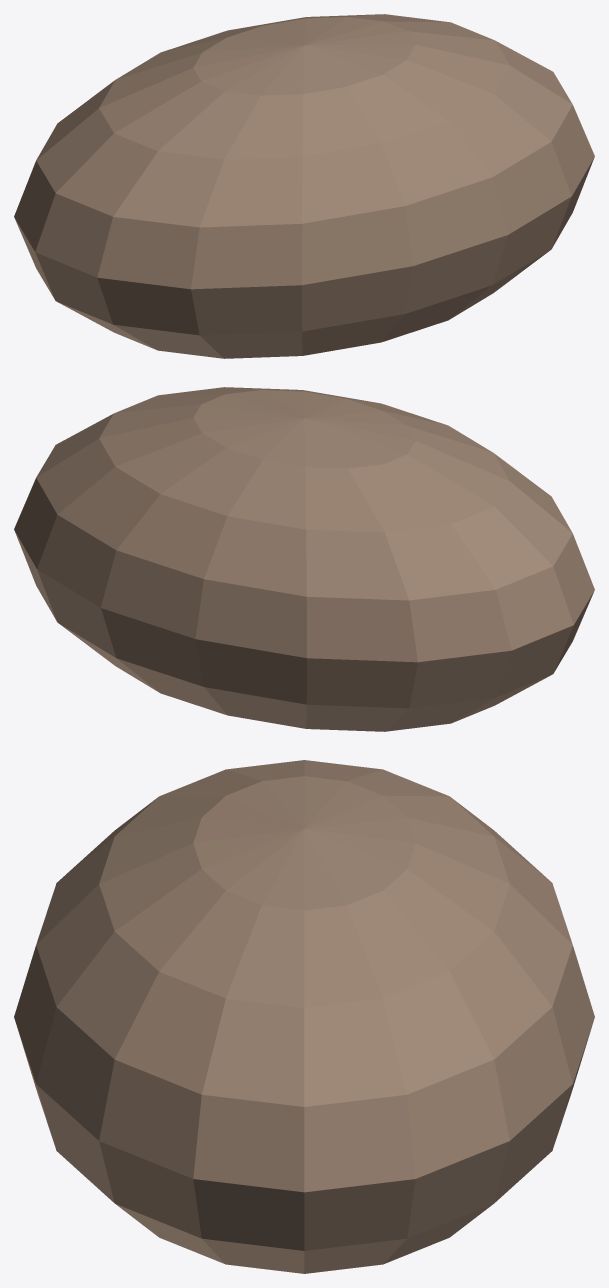
File: seedstage_oak.glb
3 renders of one model, top to bottom at view 1: azimuth 30°, elevation 25°; view 2: azimuth 150°, elevation 25°; view 3: azimuth 270°, elevation 25°, orthographic. The views are drawn at different scales.
Visible parts, largest first — view 1: Oak_Seed.001; view 2: Oak_Seed.001; view 3: Oak_Seed.001.
Boxes of the visible parts, bbox=[...] form: Oak_Seed.001: bbox=[14, 14, 594, 358]; Oak_Seed.001: bbox=[14, 387, 594, 731]; Oak_Seed.001: bbox=[14, 760, 594, 1273].
Size of the model in its own units: 0.3 by 0.15 by 0.21.
